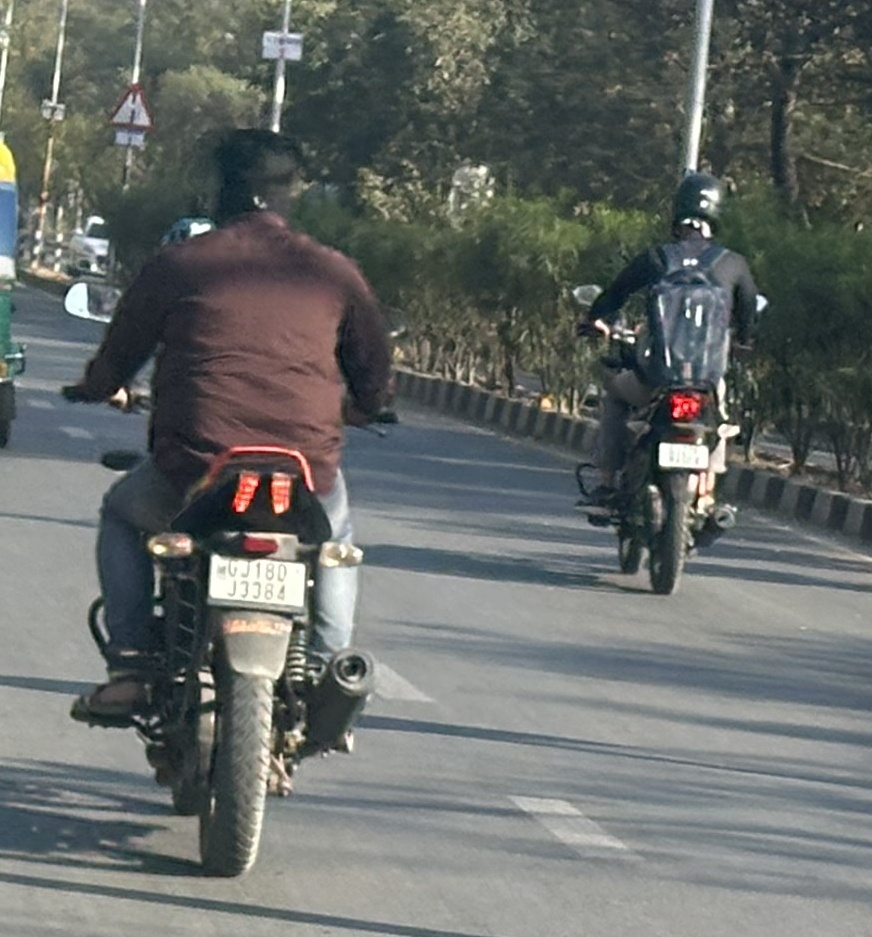BikeWithRider: (48, 116, 413, 886), (559, 162, 778, 603)
Helmet: (657, 163, 737, 247)
NoHelmet: (189, 119, 320, 239)
